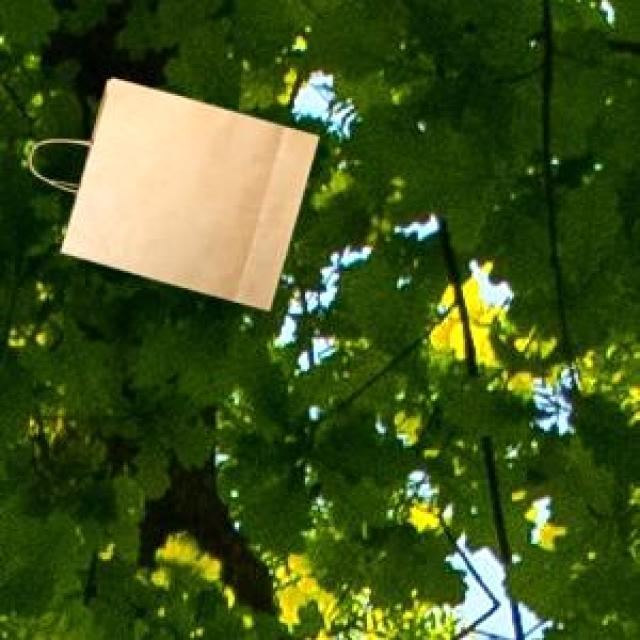Paper_Bag: (58, 76, 314, 306)
